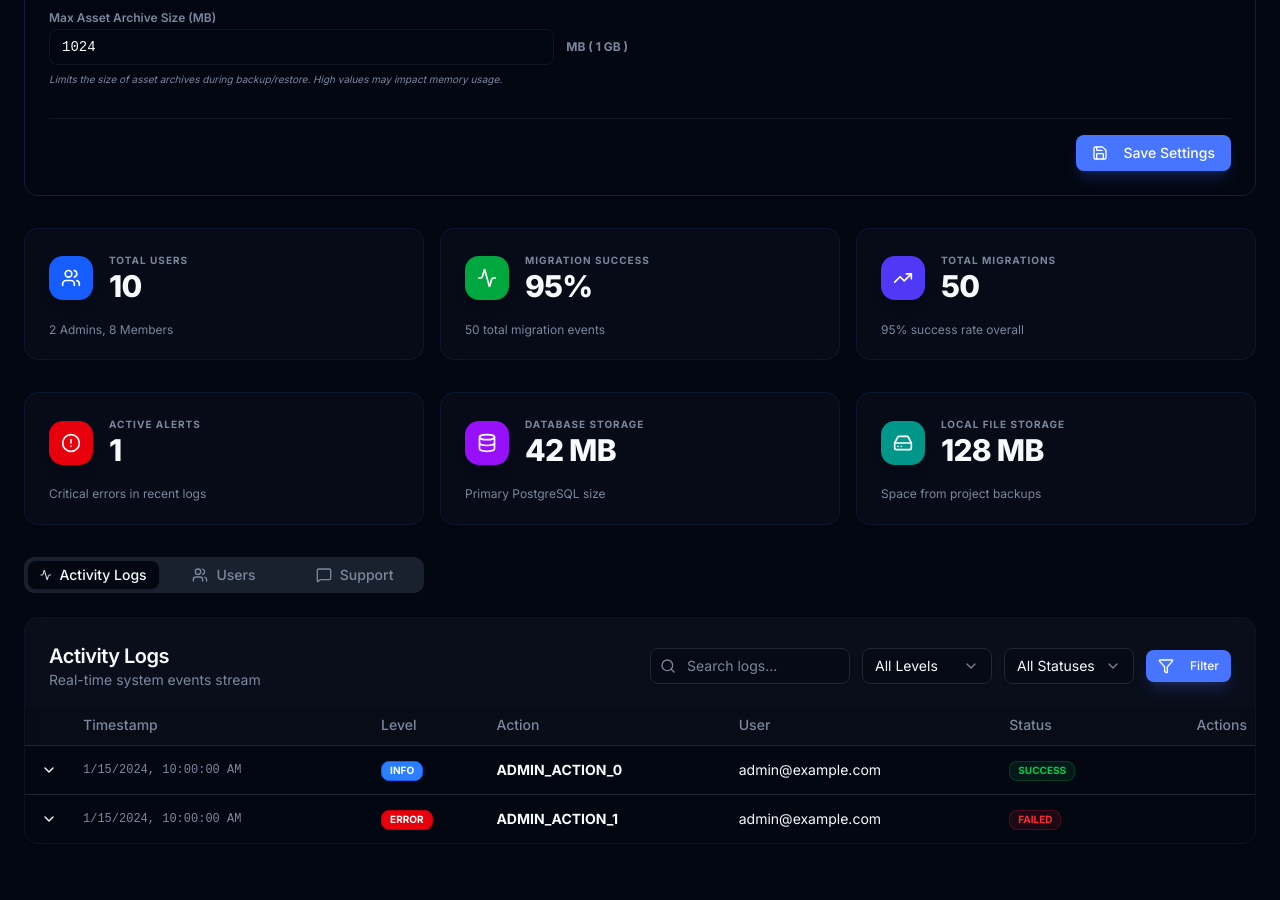
Scenario: AdminLogsPage — dashboard › collapses row on second click
(page scrolled)
What coordinates should you click on to do the following:
click the text "ADMIN_ACTION_0"
I would click on:
 (640, 770)
Its box is [25,746,1255,794].
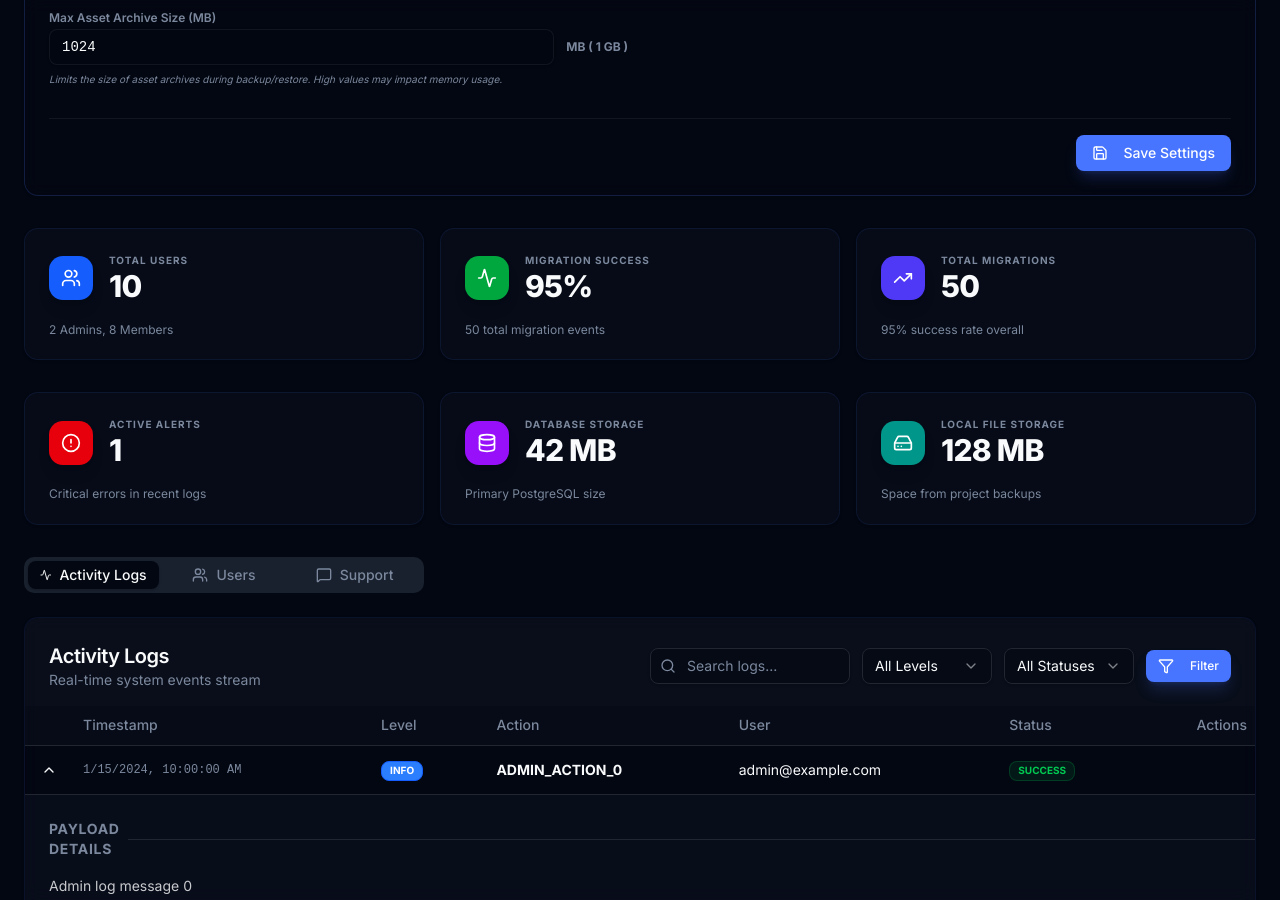
Expected: the text "Admin log message 0" is shown, [49,877,192,894]
What coordinates should you click on to do the following:
click the text "ADMIN_ACTION_0"
I would click on:
 (640, 770)
Its box is [25,746,1255,794].
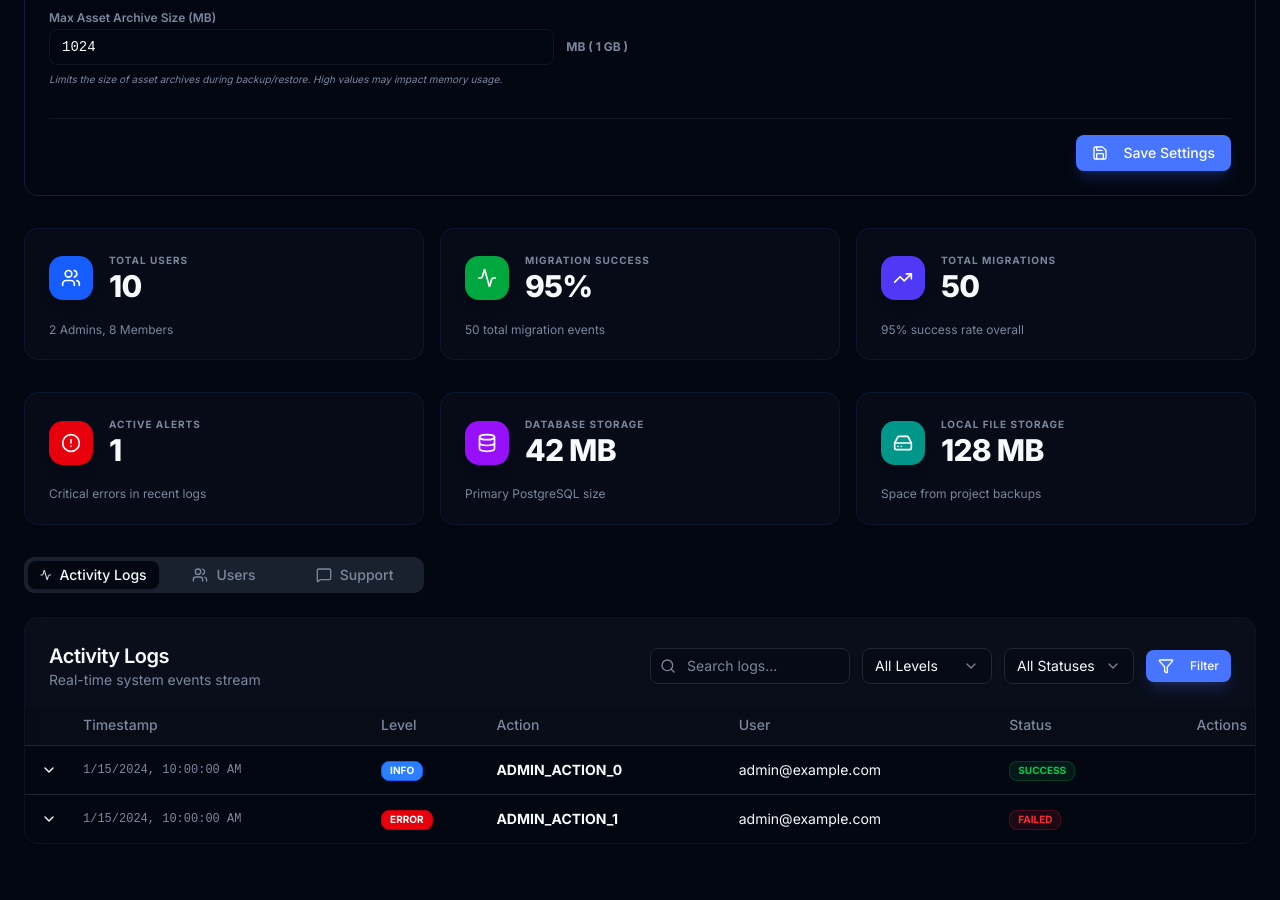
Expected: the text "Admin log message 0" is gone
